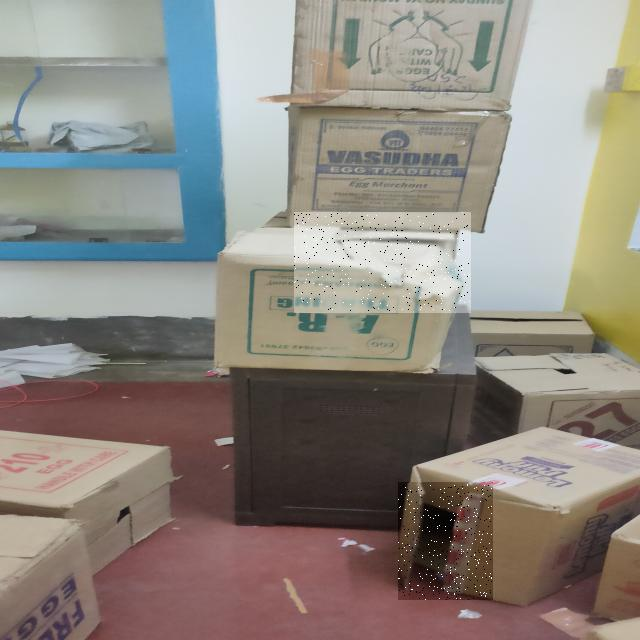squeeze: (294, 213, 470, 311)
tear: (399, 483, 492, 600)
